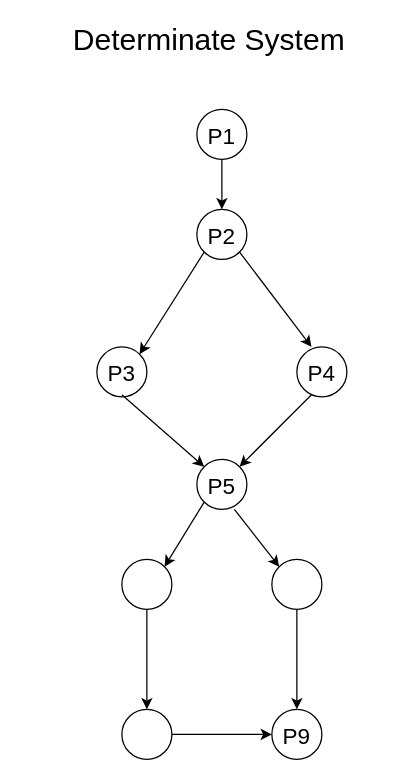
This 418x781 diagram has some shape labels left out. Each missing label, with the centre of its shape:
P6: pixel 146 583
P7: pixel 296 583
P8: pixel 146 733
